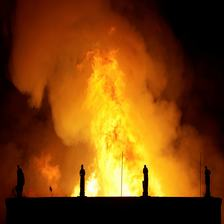fire: (6, 5, 25, 26)
